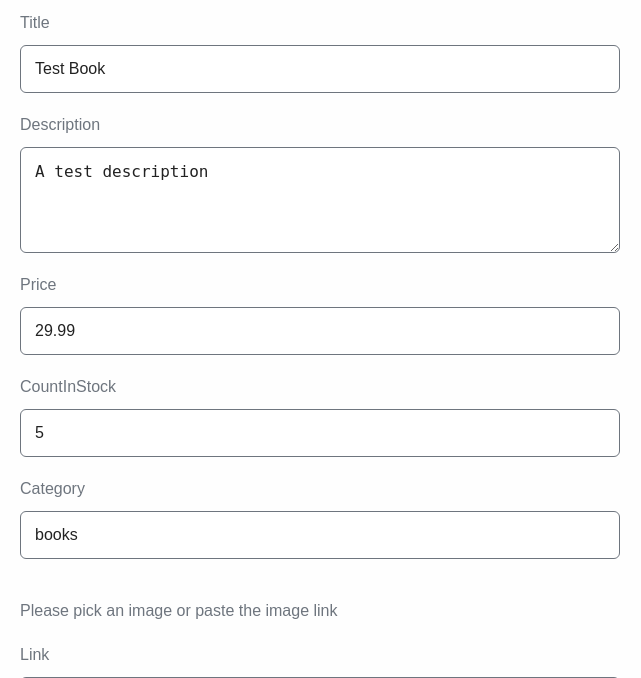
Test: ProductForm › shows validation error when title is empty and touched
Clear the field labelled "Title": (320, 69) 20,45 -> 620,93
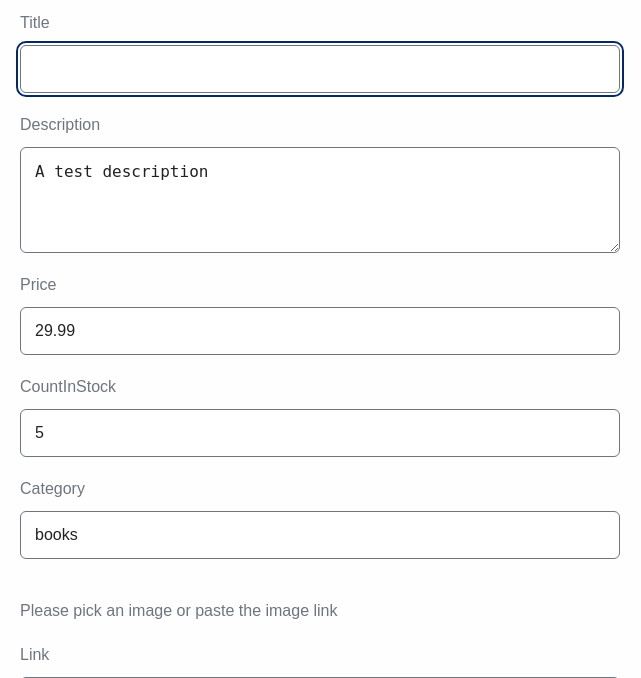
Press Tab
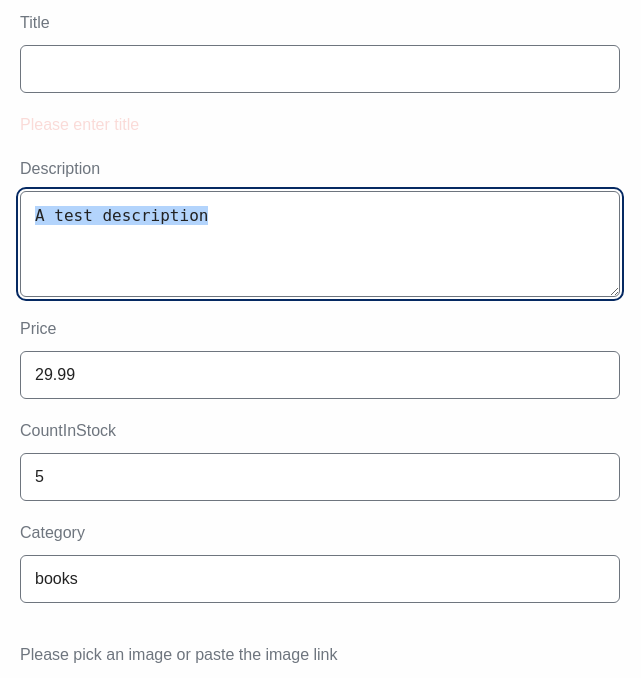
Check: the text "Please enter title" is shown, box 20,116 -> 139,133
